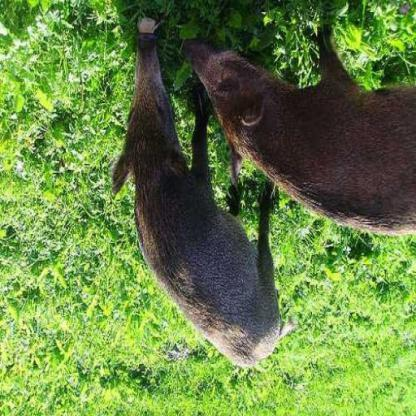boar: (72, 61, 307, 395), (187, 29, 415, 248)
